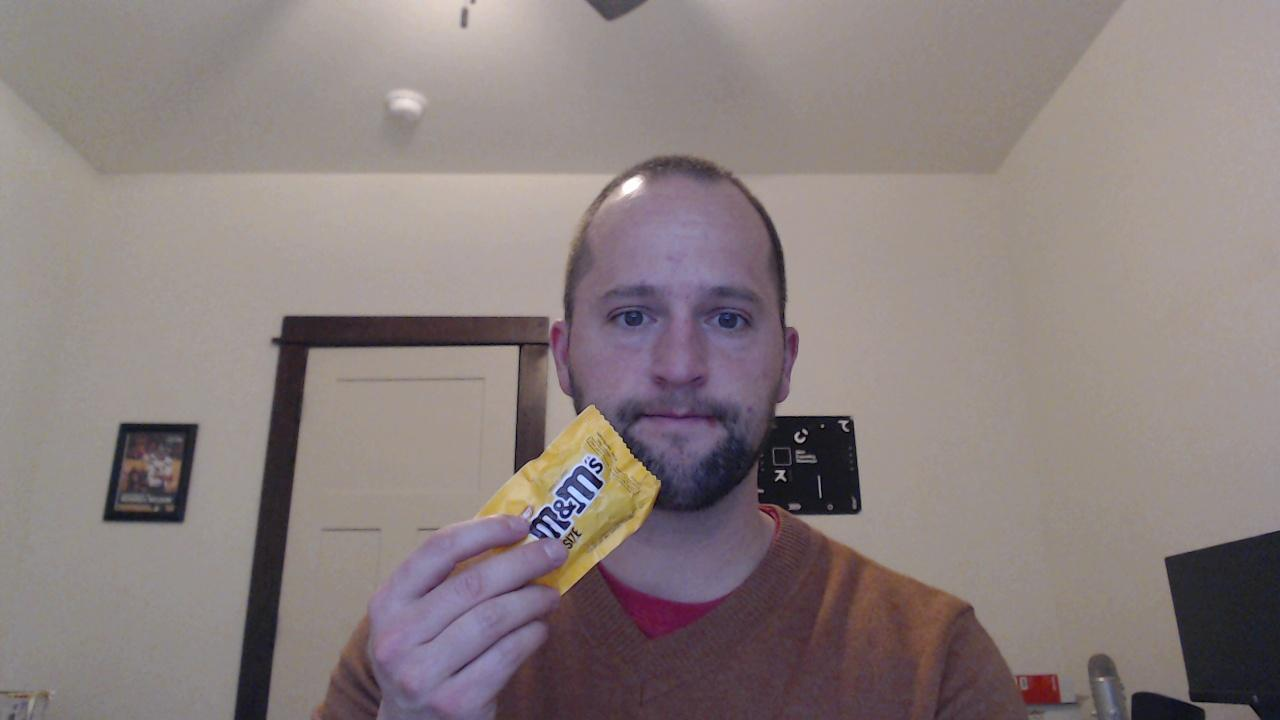MM_yellow: (469, 402, 662, 598)
